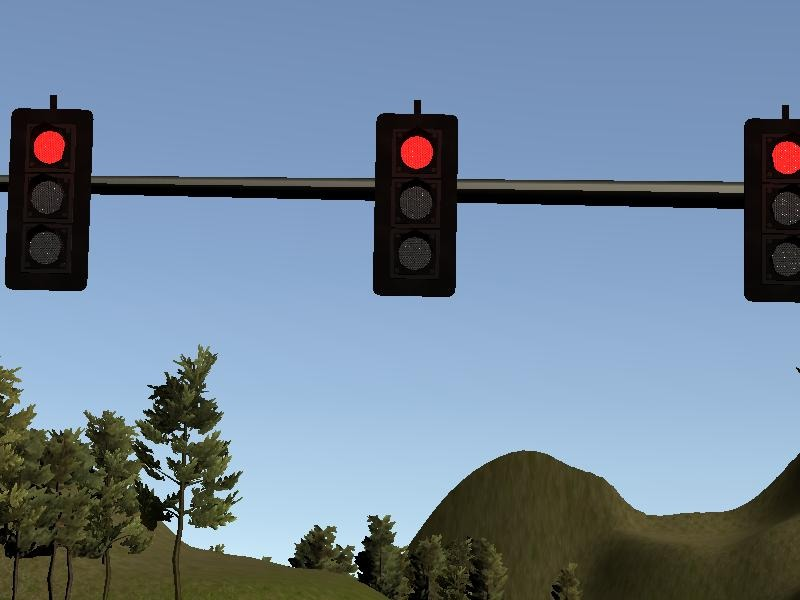red: (4, 108, 92, 292), (372, 112, 460, 296)
